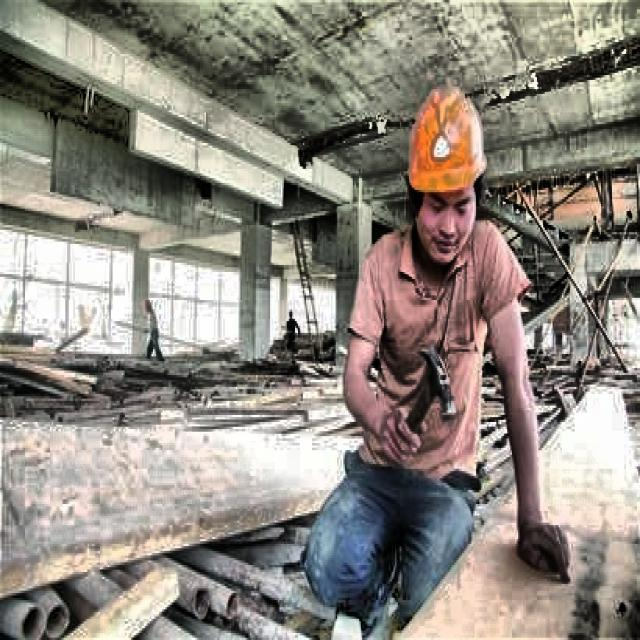helmet: (401, 73, 495, 267)
